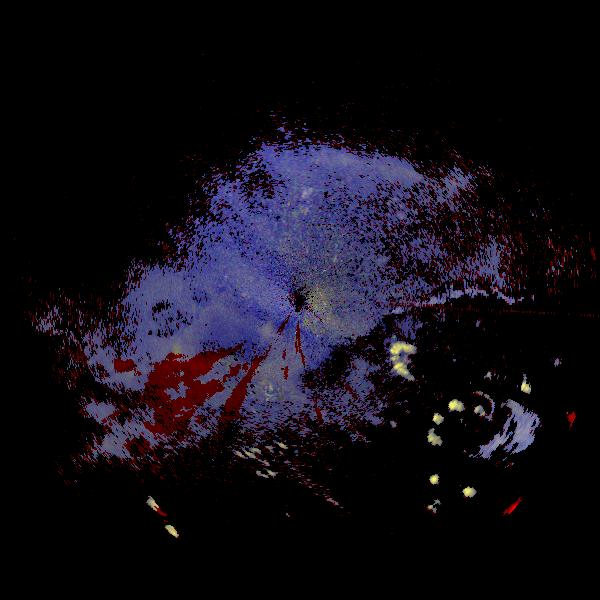roost: (148, 341, 187, 380)
